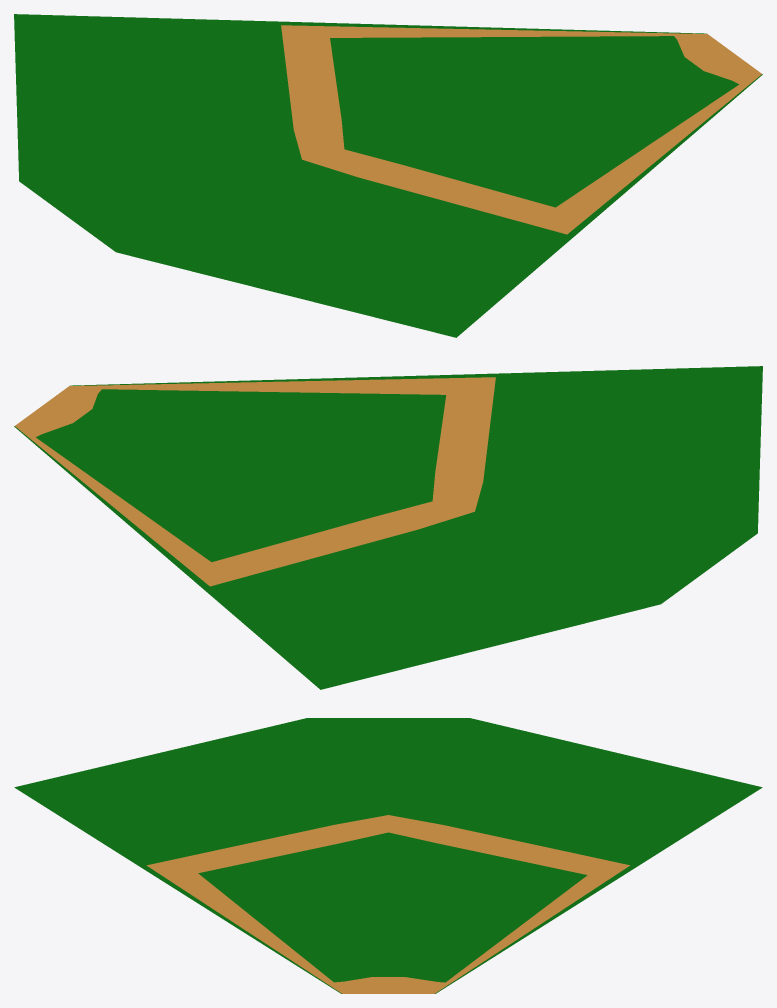
File: baseballbase 1.fbx
The picture shows the model from 3 angles, top to bottom: view 1: azimuth 30°, elevation 25°; view 2: azimuth 150°, elevation 25°; view 3: azimuth 270°, elevation 25°; orthographic projection. The views are drawn at different scales.
Parts seen in each view (by area): view 1: Plane; view 2: Plane; view 3: Plane.
Boxes of the visible parts, bbox=[...] form: Plane: bbox=[14, 14, 762, 337]; Plane: bbox=[14, 366, 762, 689]; Plane: bbox=[14, 718, 762, 993].
Size of the model in its own units: 11406 by 0.00213 by 13094.
